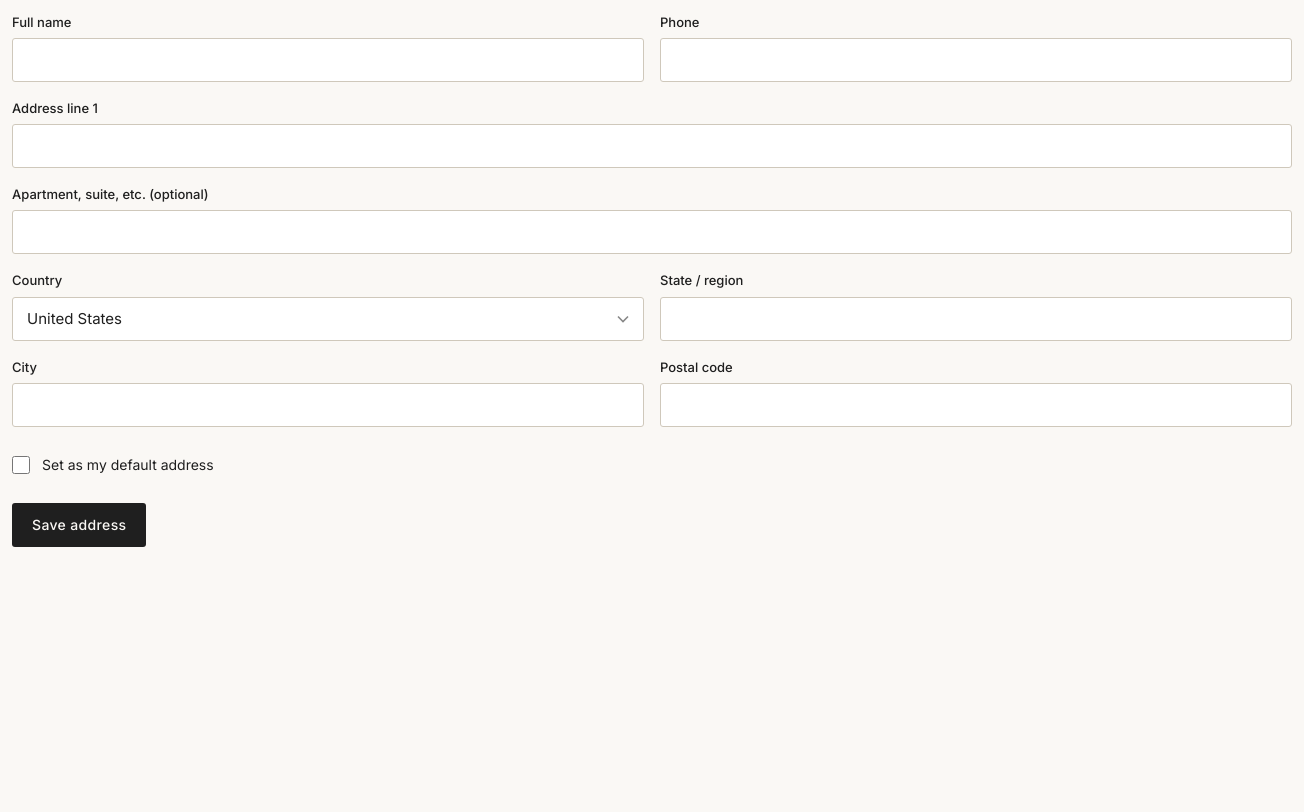
AddressForm › shows field errors and does not submit an incomplete address
The width and height of the screenshot is (1304, 812).
Click the button "Save address" at (79,525), box [12,503,146,547]
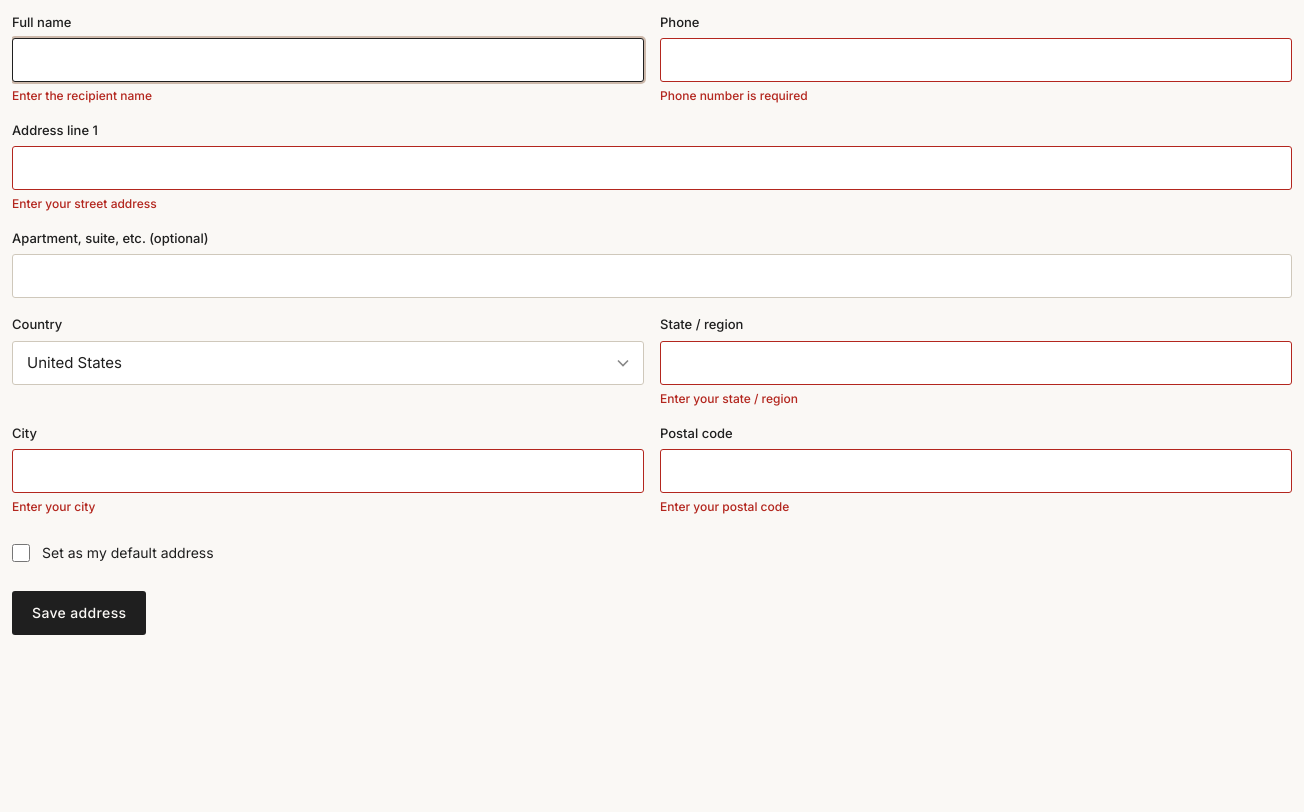
Check: the text "Enter the recipient name" is shown, box [12,88,152,103]
Check: the text "Enter your street address" is shown, box [12,196,157,211]
